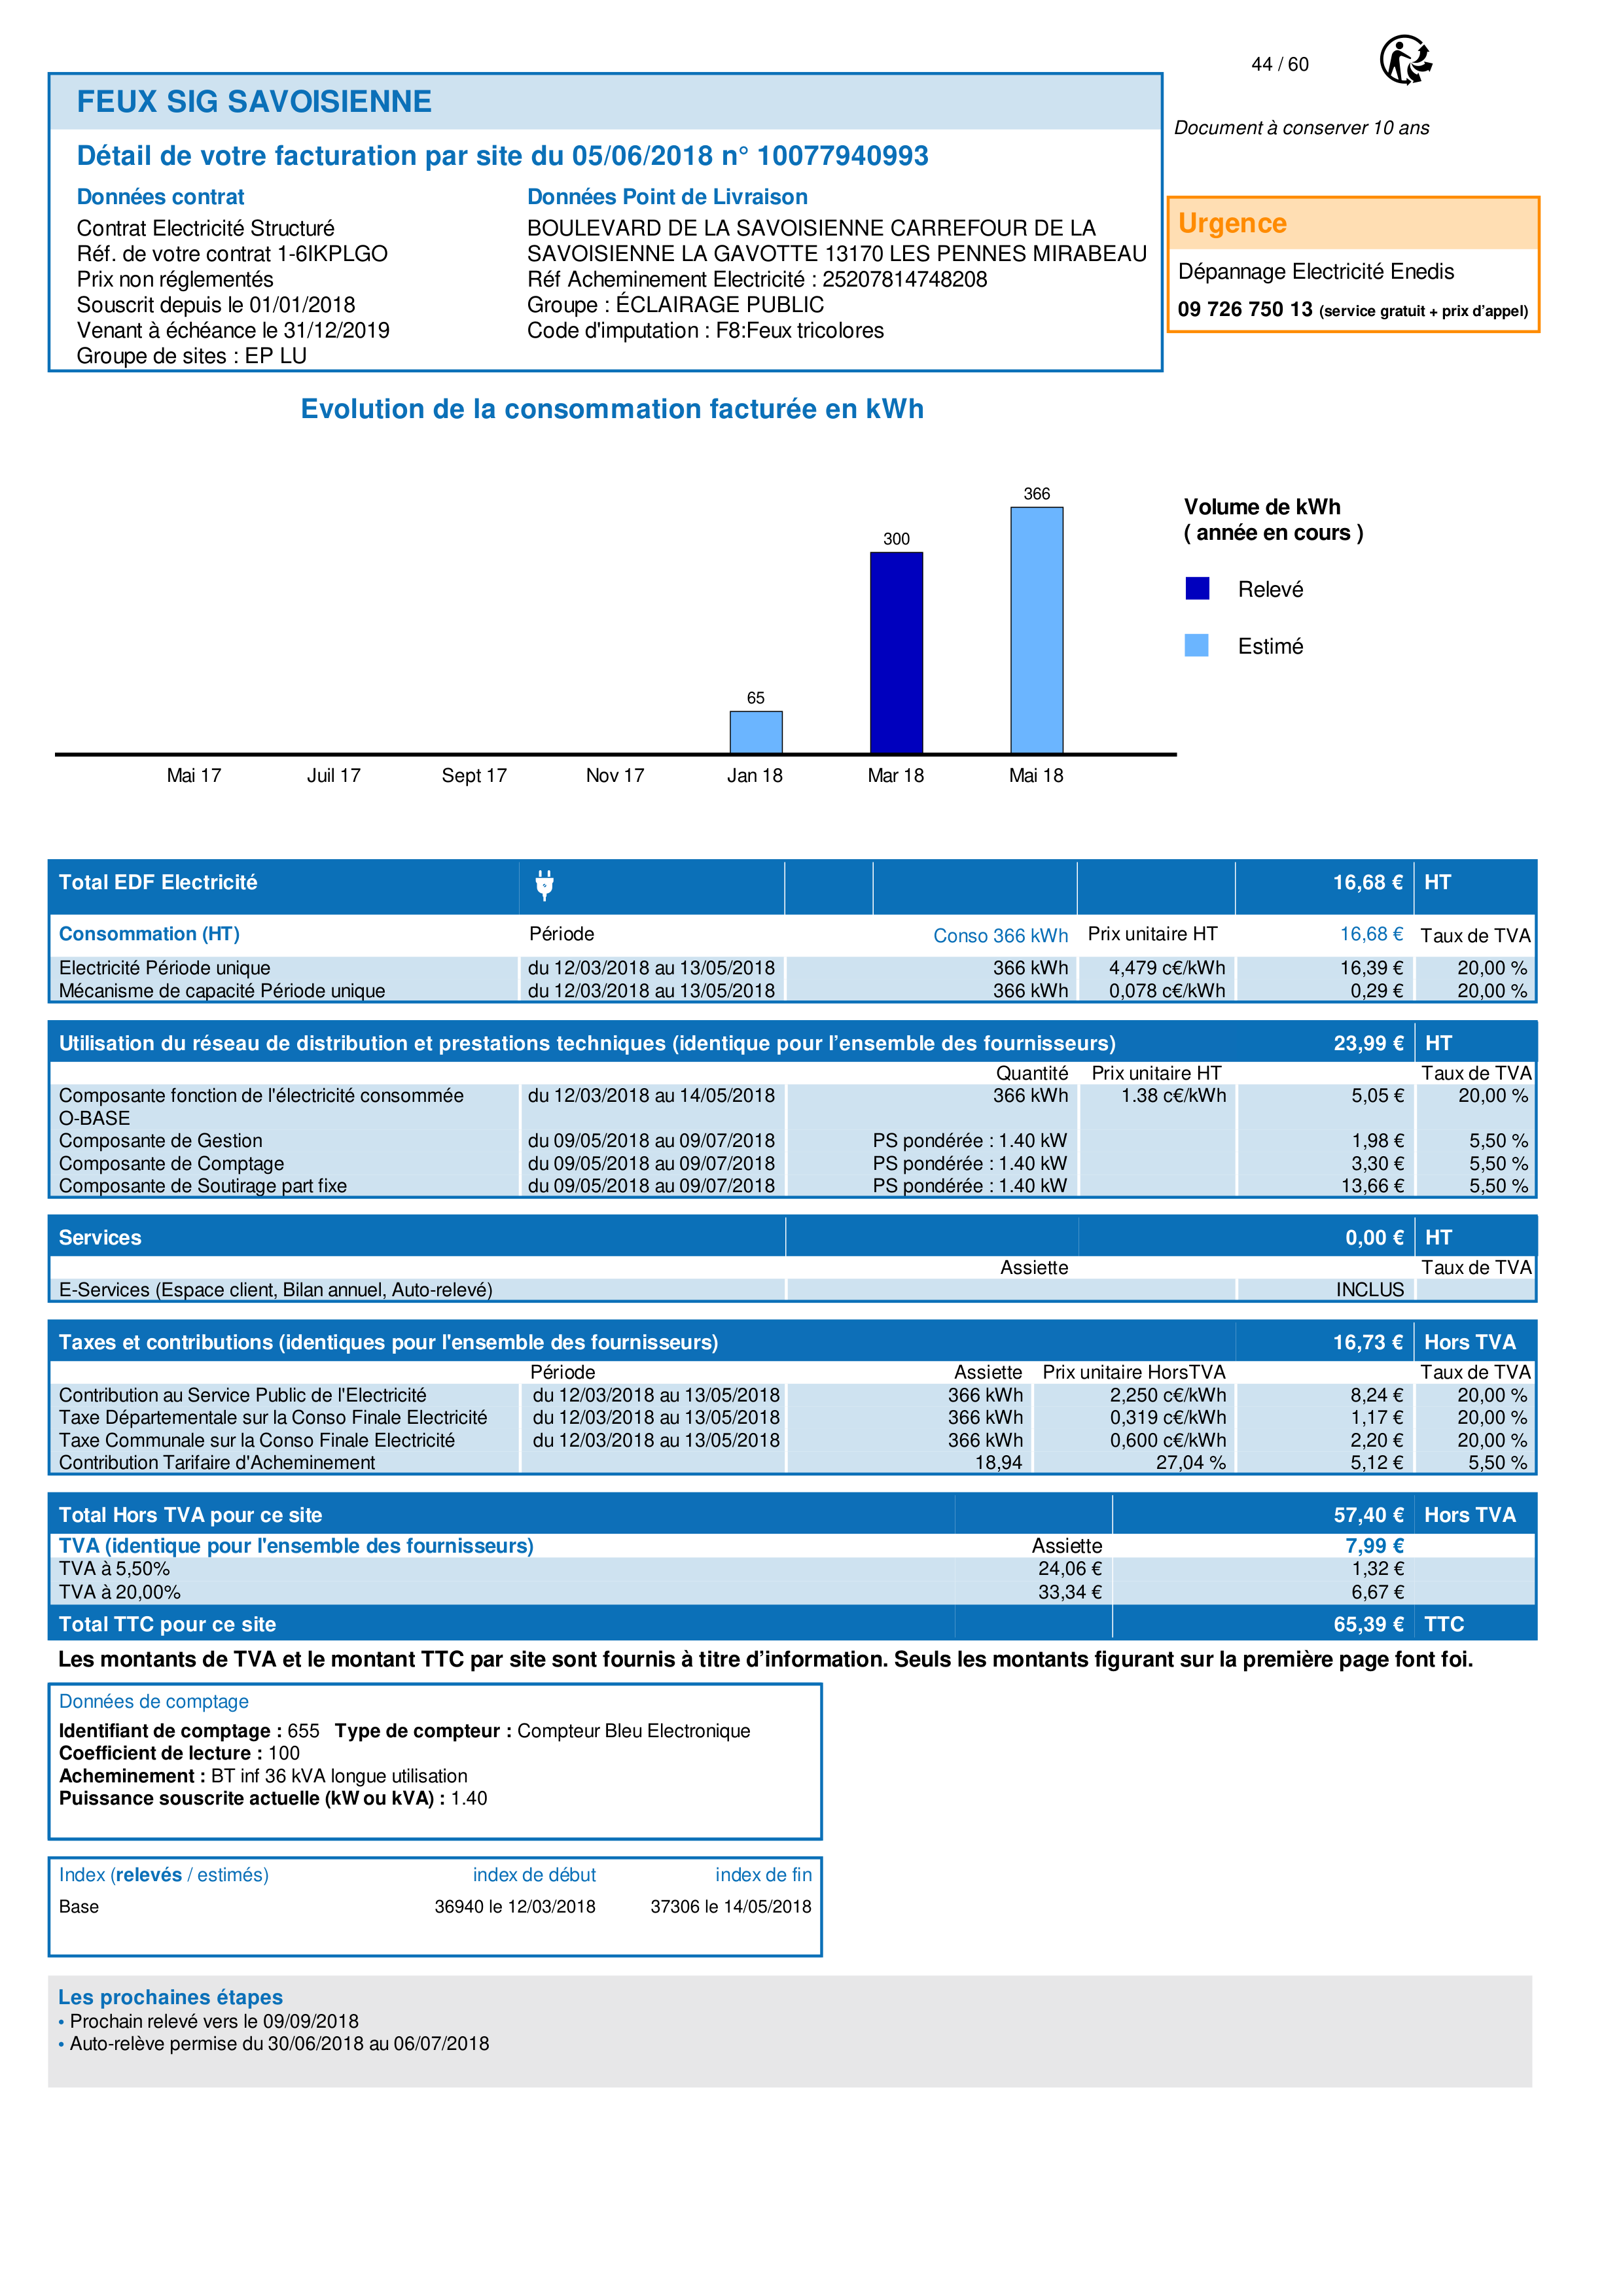area: (46, 1855, 823, 1956)
type_indicator: (50, 1858, 275, 1890)
